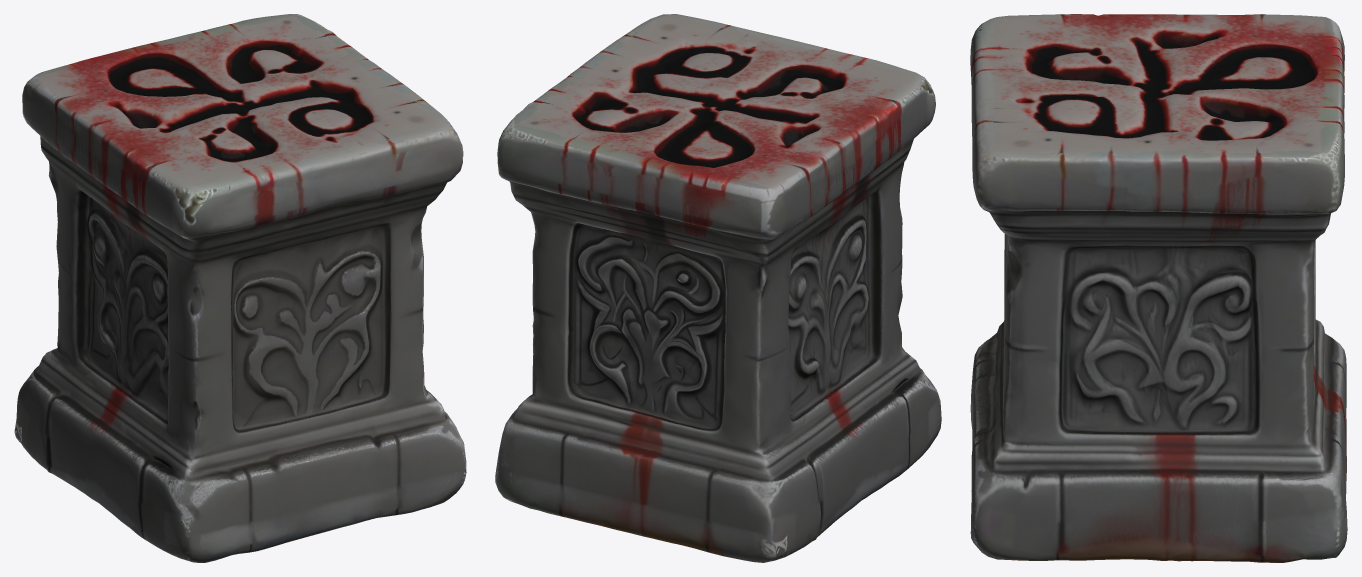
Rendered from sacrificial_pedestal.glb.
3 renders of one model, left to right at view 1: azimuth 30°, elevation 25°; view 2: azimuth 150°, elevation 25°; view 3: azimuth 270°, elevation 25°, orthographic. The views are drawn at different scales.
Size of the model in its own units: 1.63 by 2 by 1.66.
1 material, 1 textured.
